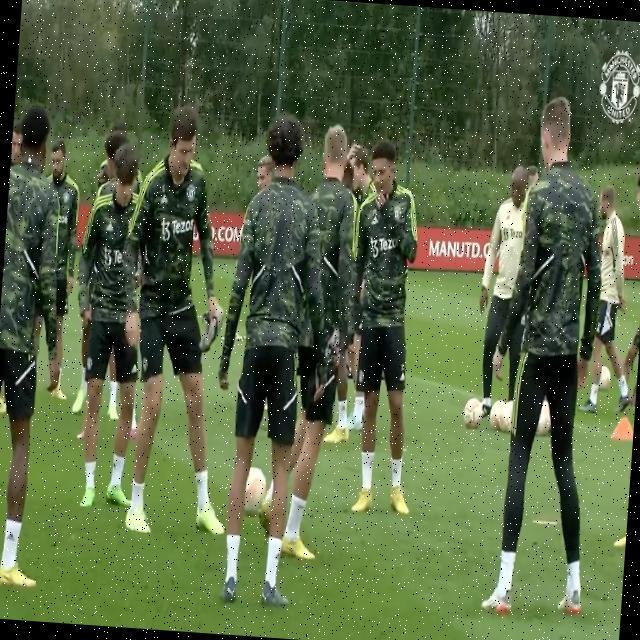Adidas: (5, 529, 17, 546), (105, 220, 115, 234), (160, 191, 169, 206), (370, 211, 379, 225)
